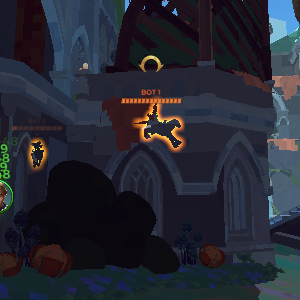model: (136, 103, 183, 151), (30, 141, 42, 170)
